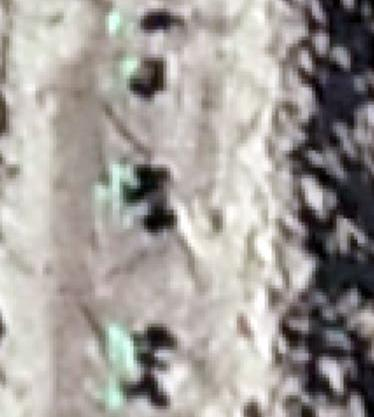cotton: (96, 165, 136, 204), (111, 327, 141, 368), (99, 383, 128, 404), (122, 56, 139, 77), (111, 14, 127, 36)
